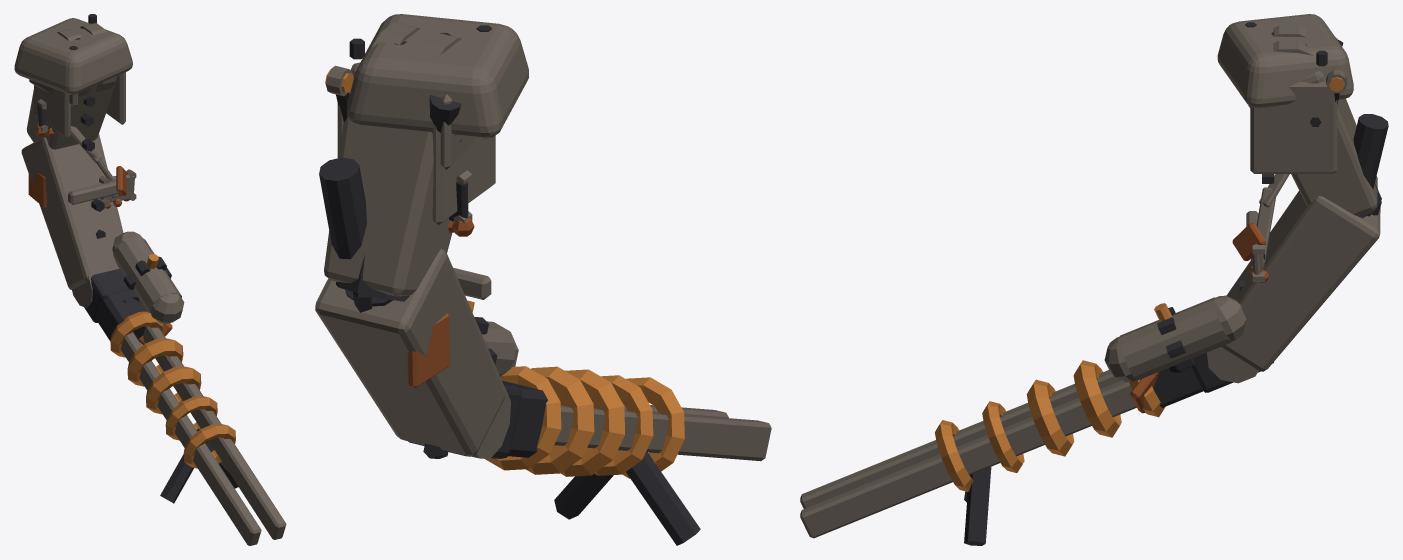
Rendered from ar_sunspear.glb.
3 views of the same model, side by side, from view 1: azimuth 30°, elevation 25°; view 2: azimuth 150°, elevation 25°; view 3: azimuth 270°, elevation 25° (orthographic). The views are drawn at different scales.
Visible parts, largest first — view 1: ar_sunspear; view 2: ar_sunspear; view 3: ar_sunspear.
Part boxes in pixels (x1,y1,x2,y2): ar_sunspear: (14, 14, 286, 545); ar_sunspear: (315, 14, 771, 545); ar_sunspear: (800, 14, 1388, 545).
Bounding box in the file's own units: 0.1341 × 0.4864 × 0.5281.
